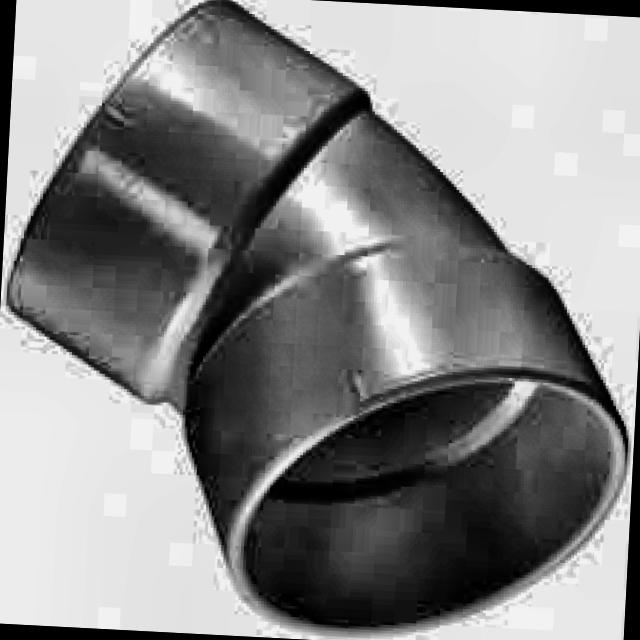ELBOW45: (6, 0, 632, 639)
